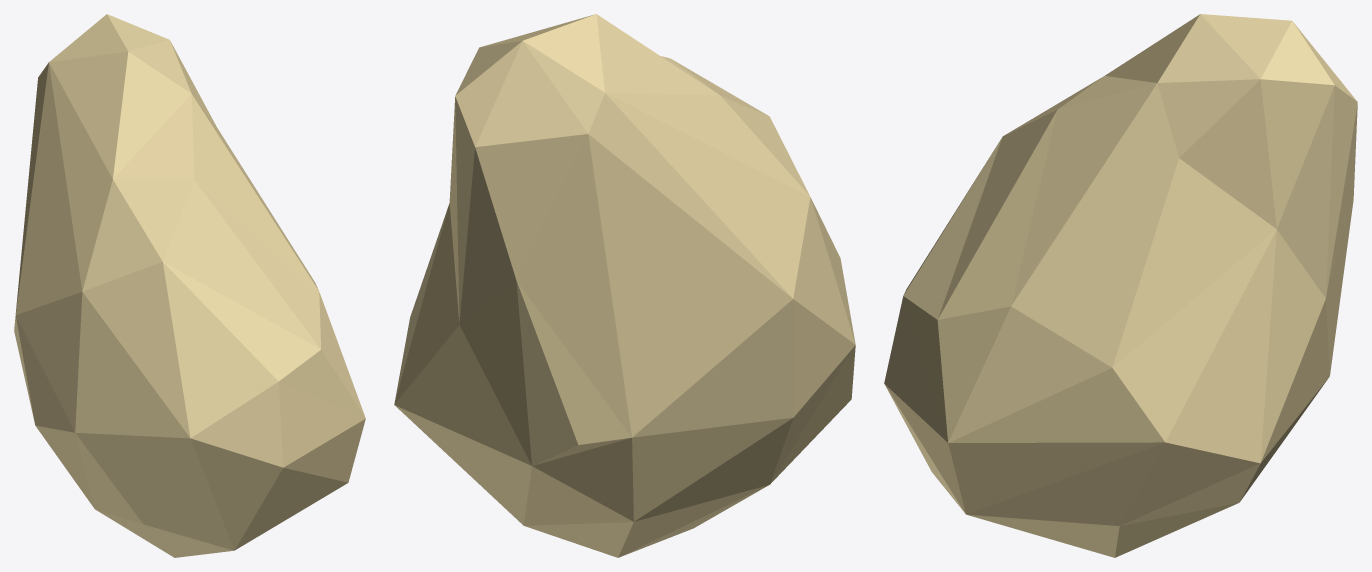
File: Rock (81).fbx
The picture shows the model from 3 angles, left to right: view 1: azimuth 30°, elevation 25°; view 2: azimuth 150°, elevation 25°; view 3: azimuth 270°, elevation 25°; orthographic projection. The views are drawn at different scales.
Parts seen in each view (by area): view 1: Asteroid80; view 2: Asteroid80; view 3: Asteroid80.
Boxes of the visible parts, x1,y1,x2,y2 form: Asteroid80: (14,14,365,557); Asteroid80: (394,14,855,557); Asteroid80: (884,14,1357,557).
Bounding box in the file's own units: 35.6 × 51.91 × 42.67.
